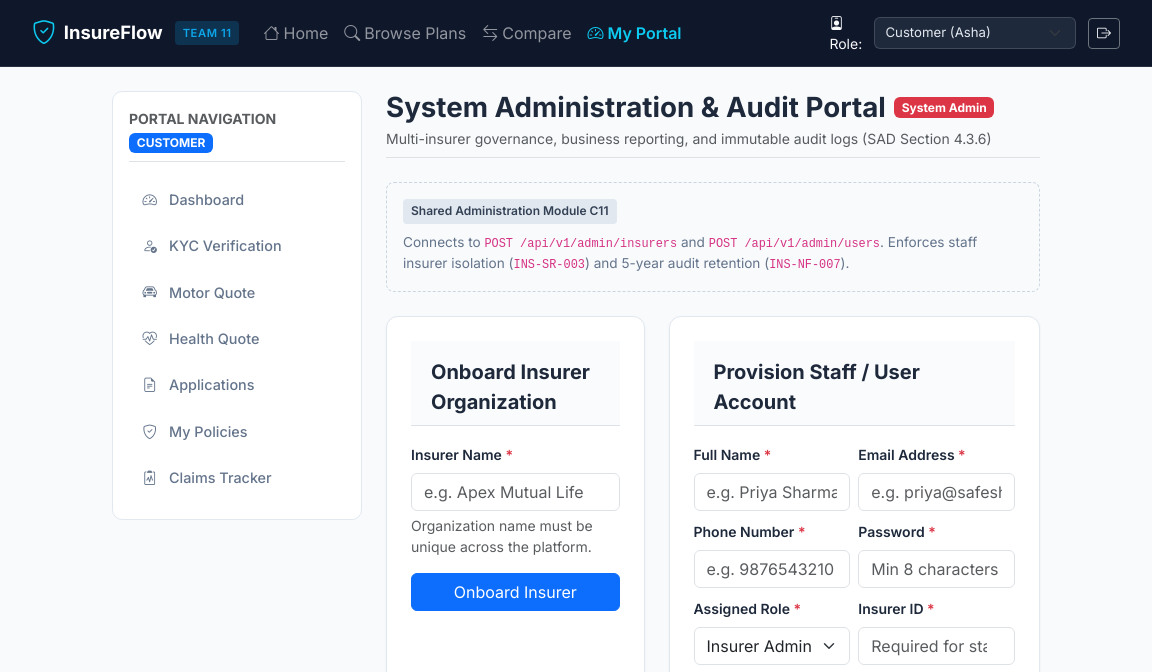
SystemAdminDashboardView (P2-11 / SAD §4.3.6 / INS-SR-003) › disables Insurer ID field when role is non-staff (CUSTOMER or SYSTEM_ADMIN)
Expected: the number field labelled "Insurer ID *" is enabled, left=858, top=627, right=1015, bottom=665
Select "Customer" in the dropdown labelled "Assigned Role *" at [772, 646], box left=694, top=627, right=850, bottom=665
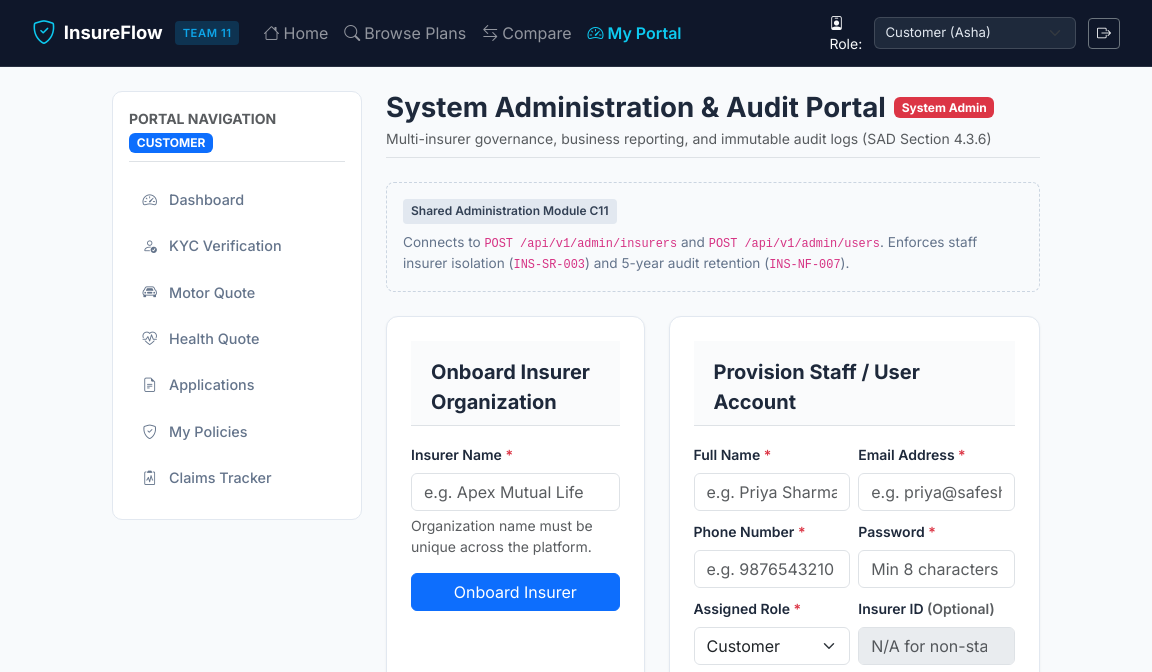
Expected: the number field labelled "Insurer ID (Optional)" is disabled, left=858, top=627, right=1015, bottom=665
Select "System Admin" in the dropdown labelled "Assigned Role *" at [772, 646], box left=694, top=627, right=850, bottom=665
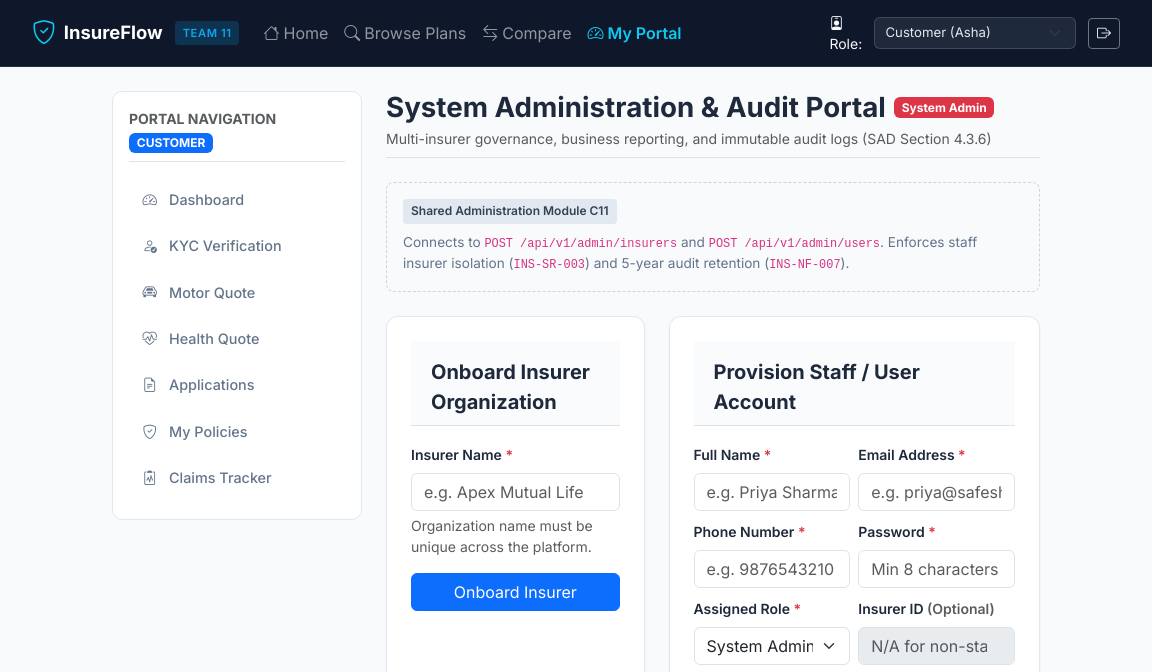
Expected: the number field labelled "Insurer ID (Optional)" is disabled, left=858, top=627, right=1015, bottom=665
Select "Claims Officer" in the dropdown labelled "Assigned Role *" at [772, 646], box left=694, top=627, right=850, bottom=665
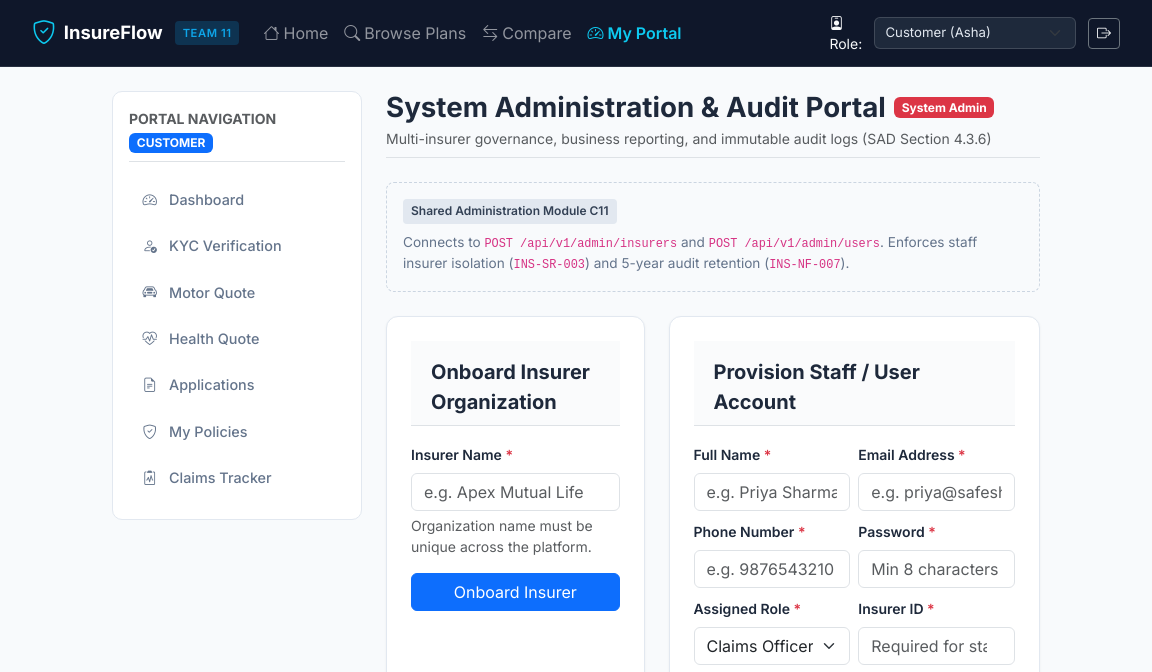
Expected: the number field labelled "Insurer ID *" is enabled, left=858, top=627, right=1015, bottom=665
